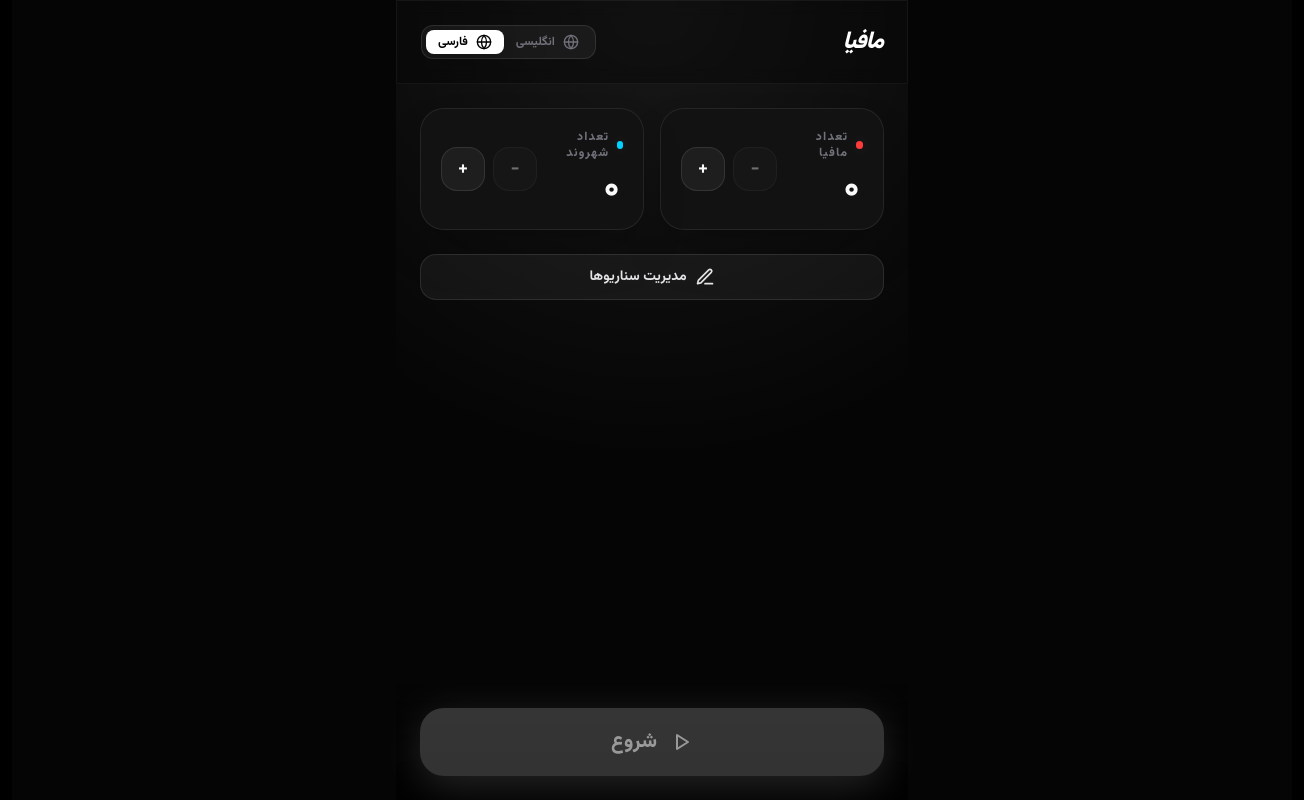
Scenario: Scenario Management › opens save scenario modal
Click the button named "افزایش" at (703, 169), box 681,147 -> 725,191
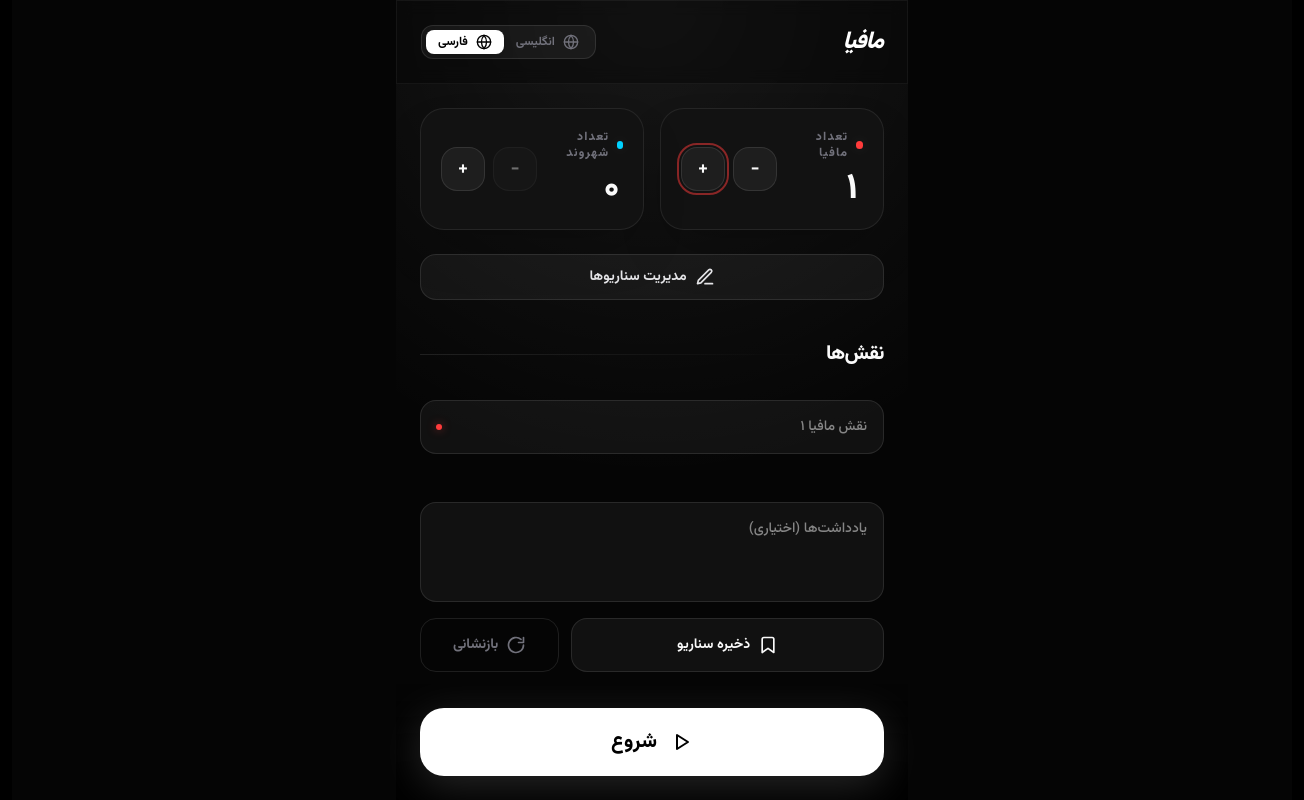
Click the button named "افزایش" at (703, 169), box 681,147 -> 725,191
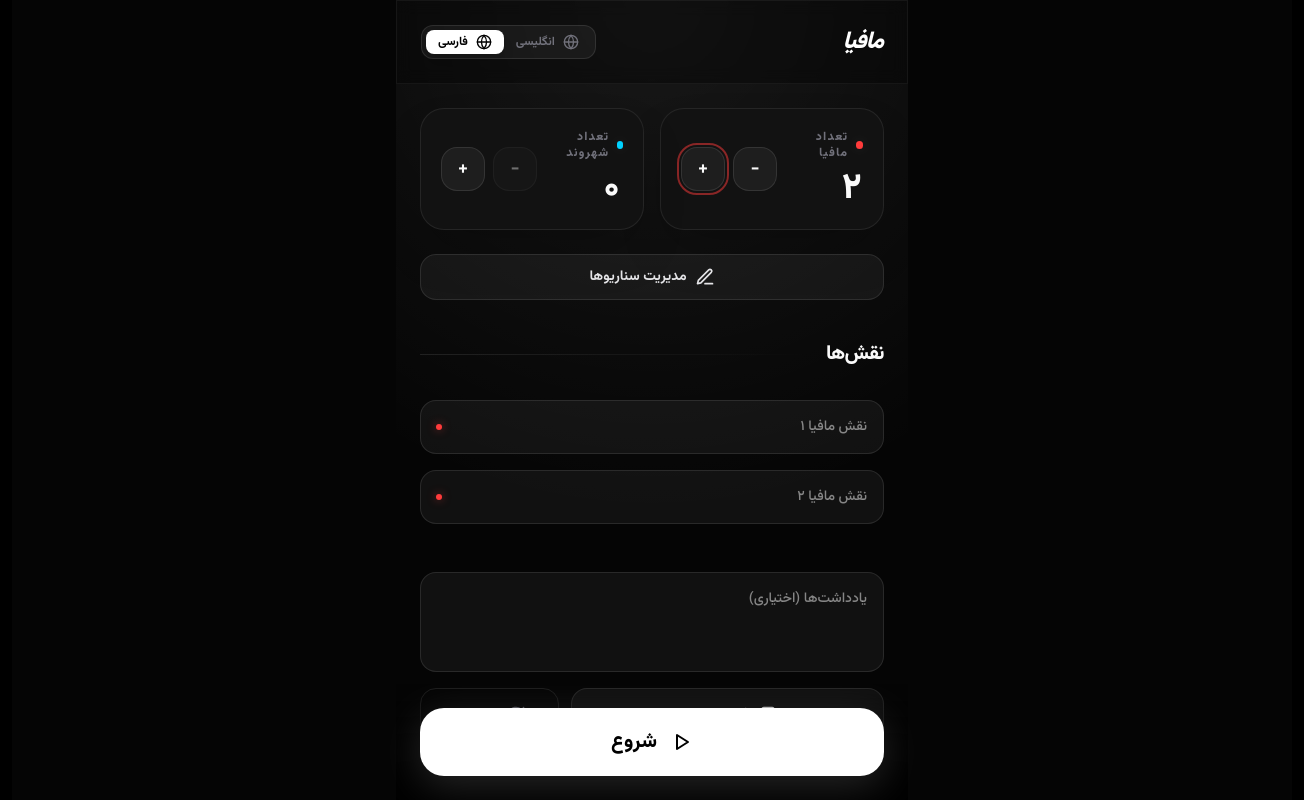
Click the button named "افزایش" at (463, 169), box 441,147 -> 485,191
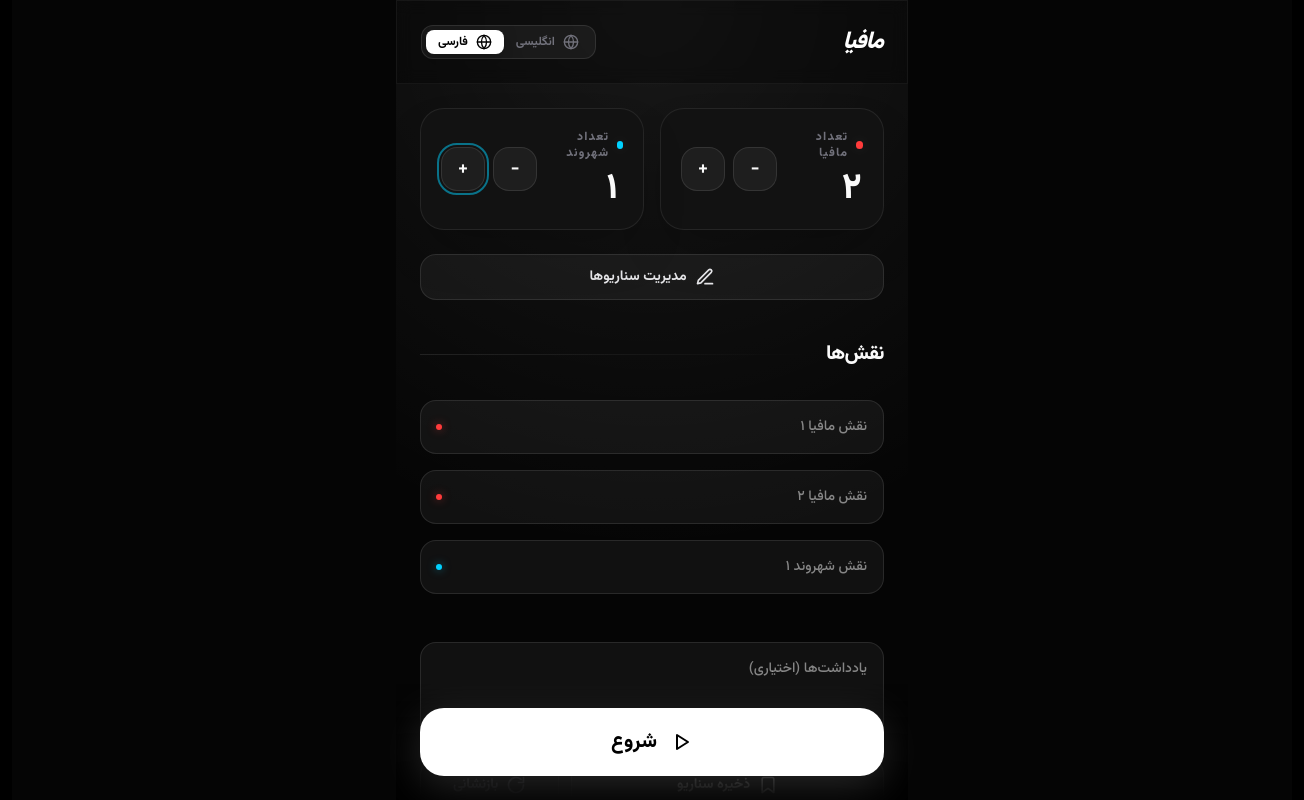
Click the button named "افزایش" at (463, 169), box 441,147 -> 485,191
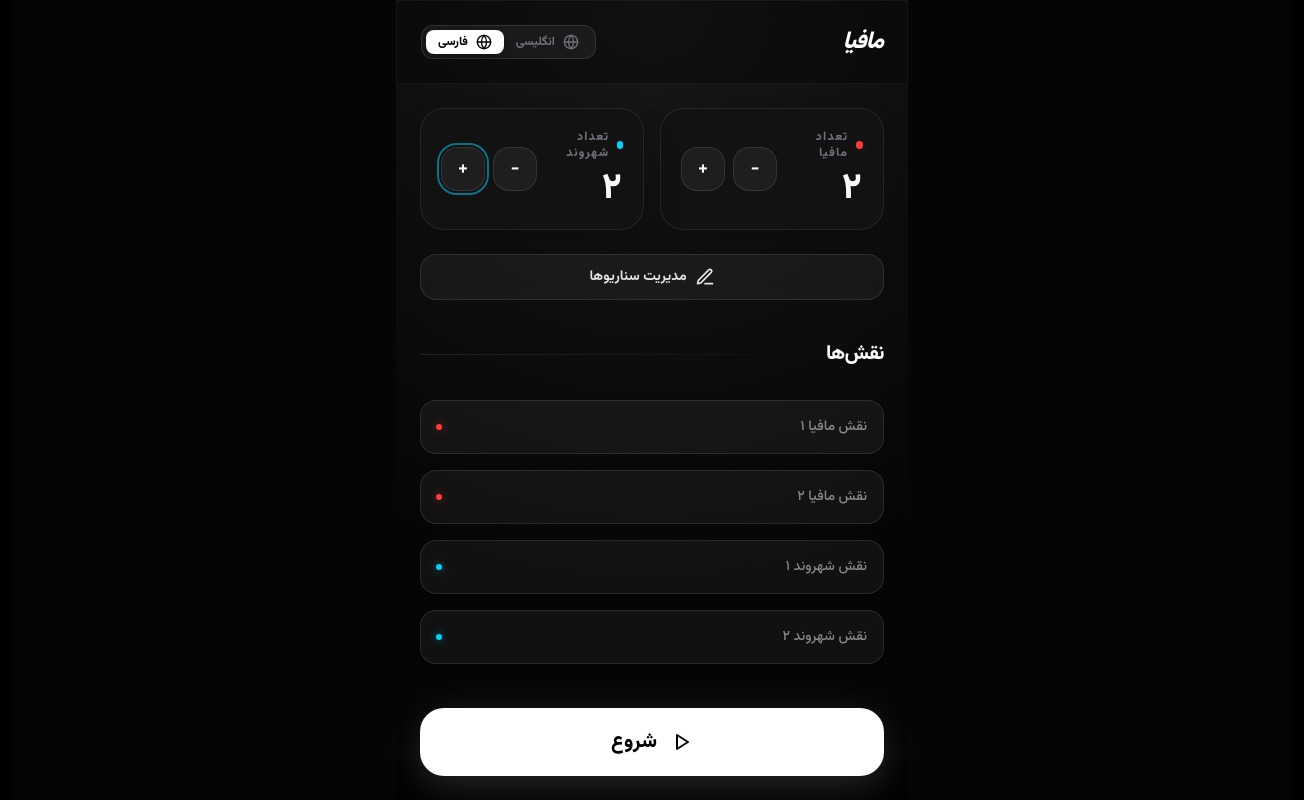
Click the button named "افزایش" at (463, 169), box 441,147 -> 485,191
(page scrolled)
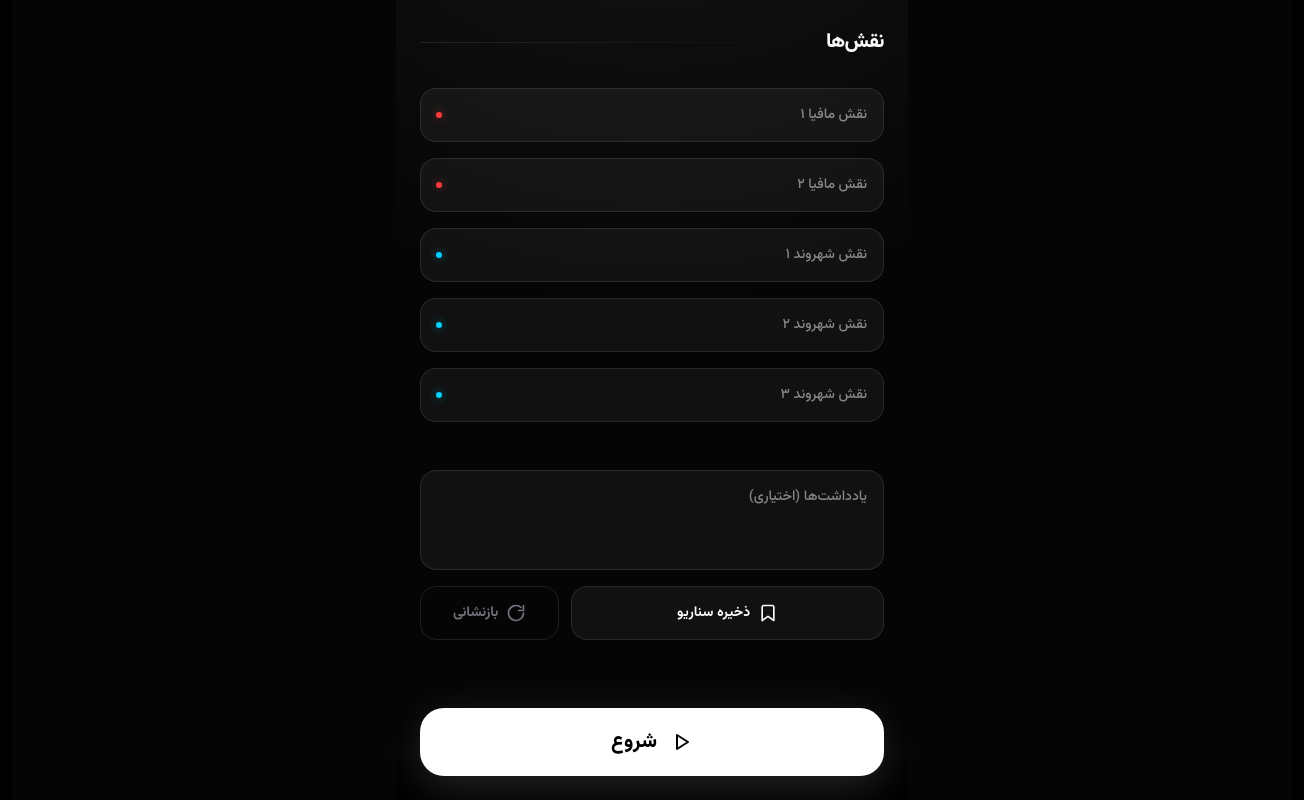
Click the button "ذخیره سناریو" at (728, 613), box 571,586 -> 884,640
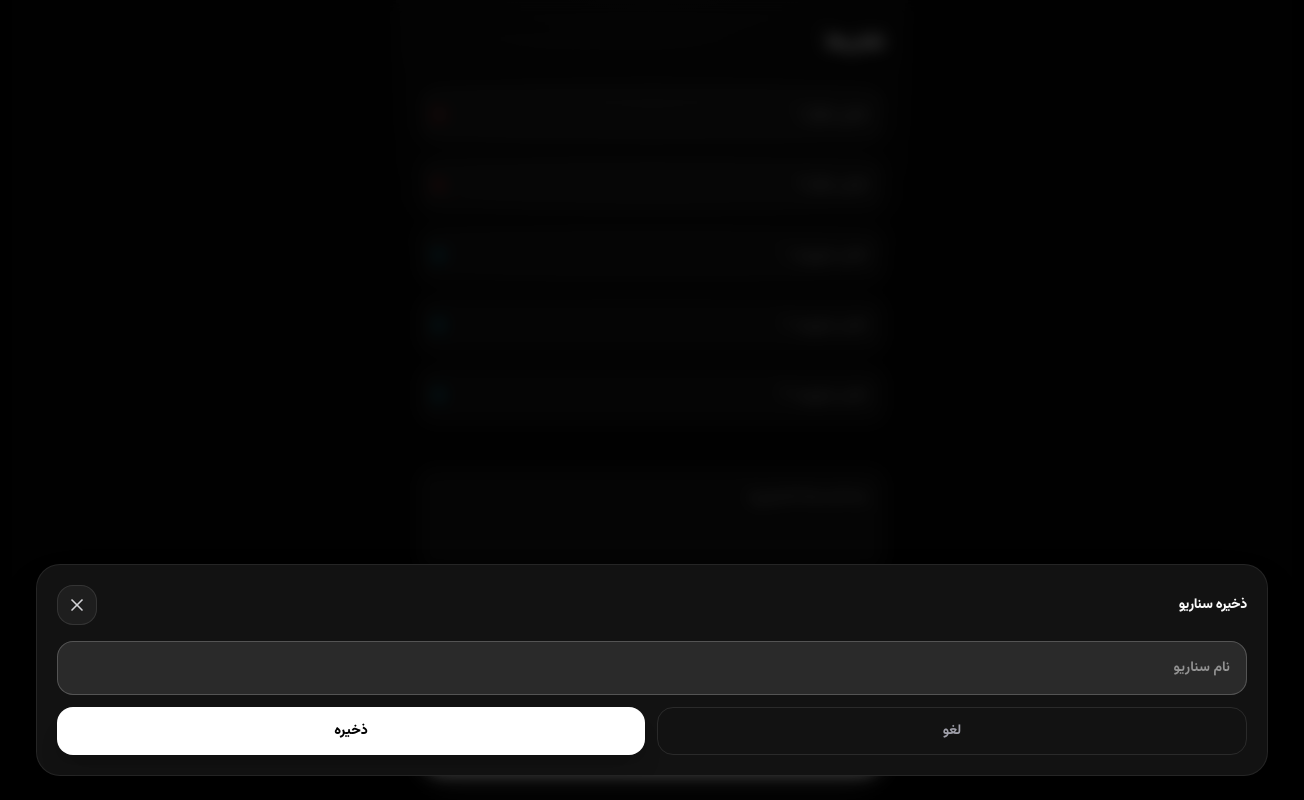
expect the field with placeholder "نام سناریو" is shown: met, box 57,641 -> 1247,695
